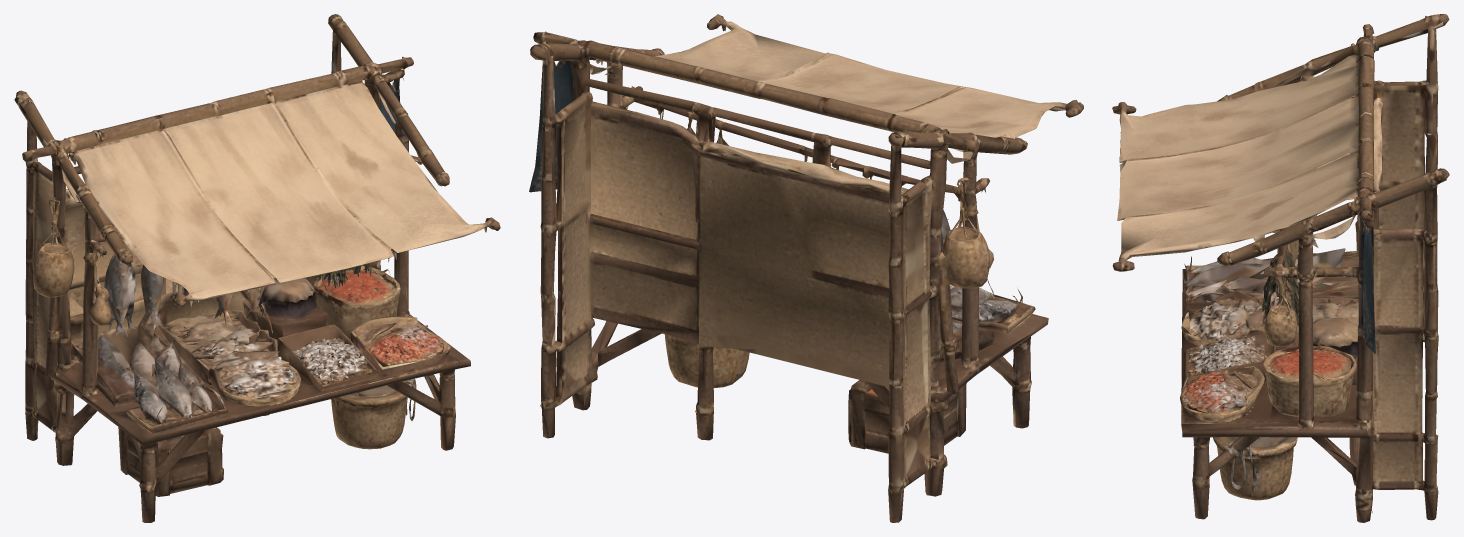
Rendered from 06_Fish_Dried_Goods_Stall_LOD1.fbx.
The picture shows the model from 3 angles, left to right: view 1: azimuth 30°, elevation 25°; view 2: azimuth 150°, elevation 25°; view 3: azimuth 270°, elevation 25°; orthographic projection. The views are drawn at different scales.
Parts seen in each view (by area): view 1: 06_Fish_Dried_Goods_Stall_L1; view 2: 06_Fish_Dried_Goods_Stall_L1; view 3: 06_Fish_Dried_Goods_Stall_L1.
Boxes of the visible parts, bbox=[...] form: 06_Fish_Dried_Goods_Stall_L1: bbox=[14, 14, 500, 522]; 06_Fish_Dried_Goods_Stall_L1: bbox=[529, 14, 1083, 522]; 06_Fish_Dried_Goods_Stall_L1: bbox=[1112, 14, 1449, 522].
Size of the model in its own units: 2.82 by 2.4 by 2.09.
